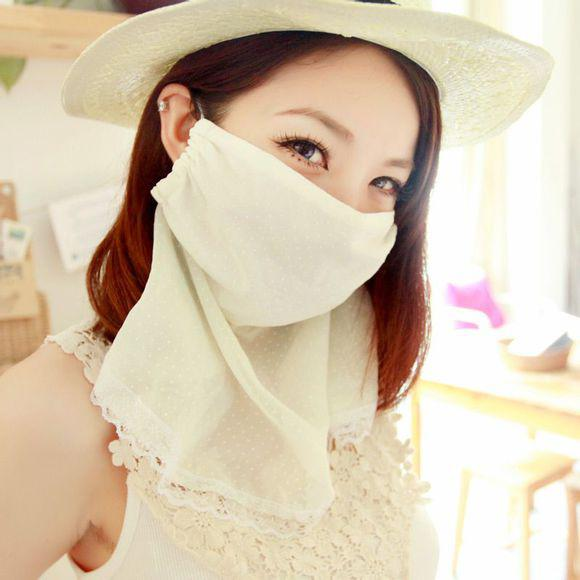OK: (192, 92, 424, 324)
